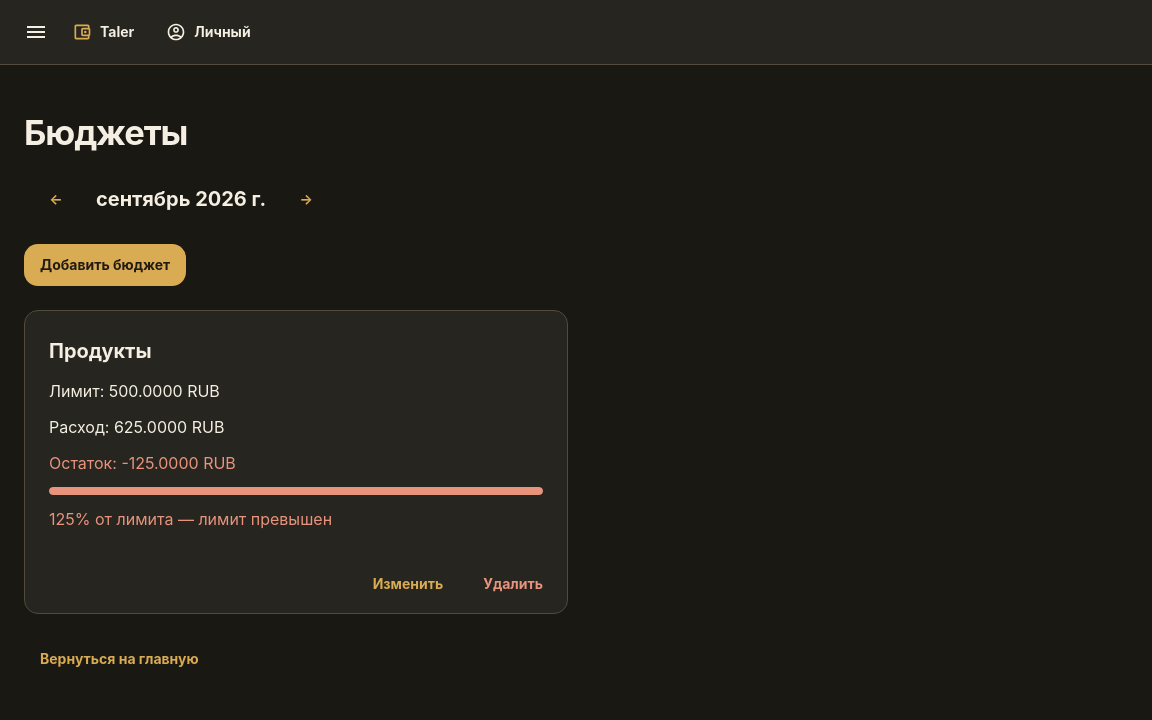
Test: BudgetsPage › shows exceeded and no-spending states while switching months
Expected: the text "125% от лимита — лимит превышен" is shown, [49,509,332,529]
Expected: the text "Остаток: -125.0000 RUB" is shown, [49,453,236,473]
Click the button named "Следующий месяц": (306, 199) [274,178,338,220]
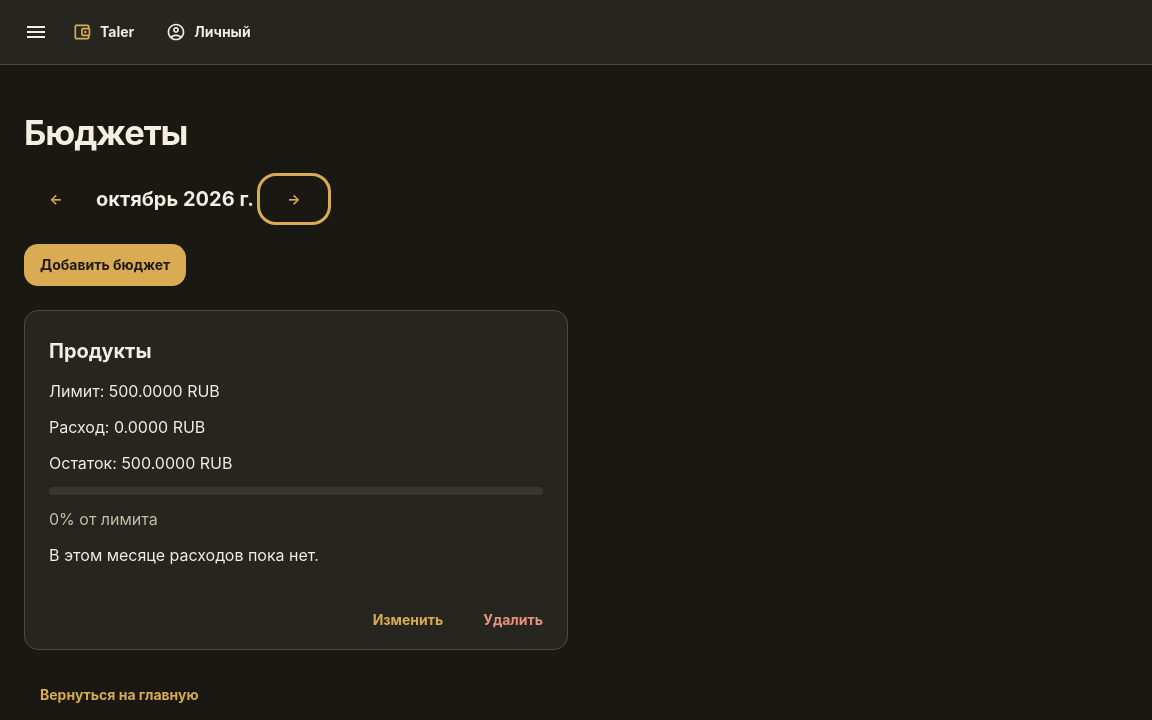
Expected: the text "В этом месяце расходов пока нет." is shown, [49,545,319,565]
